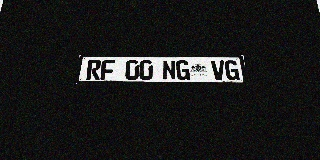plate: (76, 55, 247, 84)
